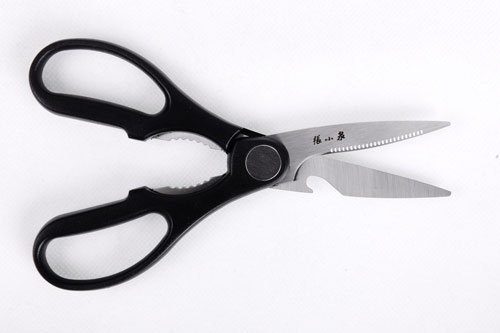scissors: (19, 37, 471, 293)
